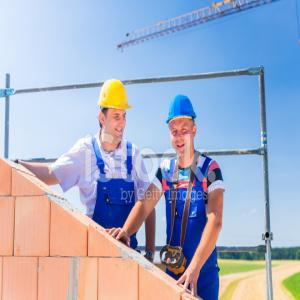blue: (167, 93, 196, 159)
yellow: (99, 80, 127, 142)
